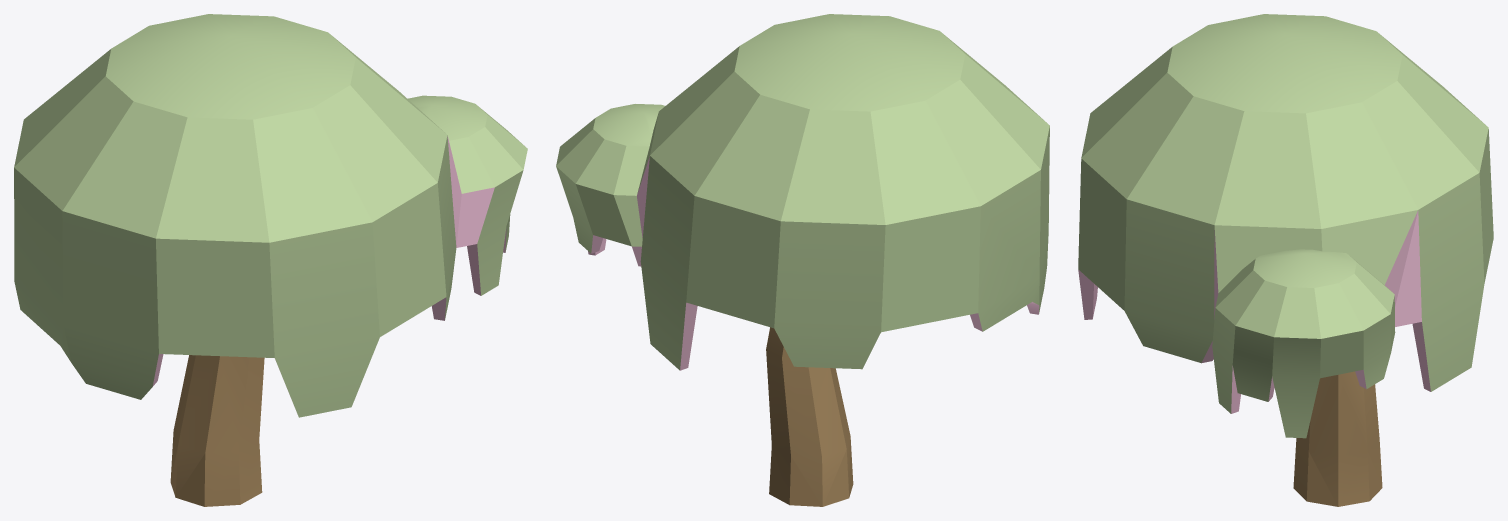
Rendered from Cherry_Blosspm_Tree.fbx.
3 renders of one model, left to right at view 1: azimuth 30°, elevation 25°; view 2: azimuth 150°, elevation 25°; view 3: azimuth 270°, elevation 25°, orthographic. The views are drawn at different scales.
Parts seen in each view (by area): view 1: Tree_Asian_Cherry_Blossom_02; view 2: Tree_Asian_Cherry_Blossom_02; view 3: Tree_Asian_Cherry_Blossom_02.
Part boxes in pixels (<box>): Tree_Asian_Cherry_Blossom_02: <box>14,14,527,506</box>; Tree_Asian_Cherry_Blossom_02: <box>556,14,1049,506</box>; Tree_Asian_Cherry_Blossom_02: <box>1078,14,1493,506</box>.
Bounding box in the file's own units: 22.85 × 21.52 × 18.13.
